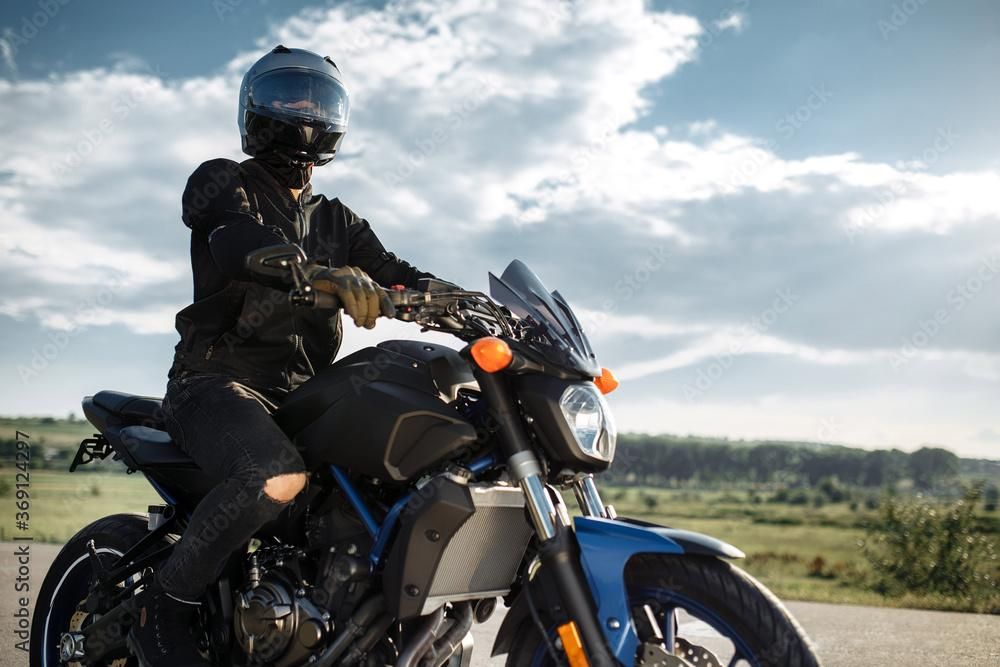helmet: (237, 44, 352, 171)
